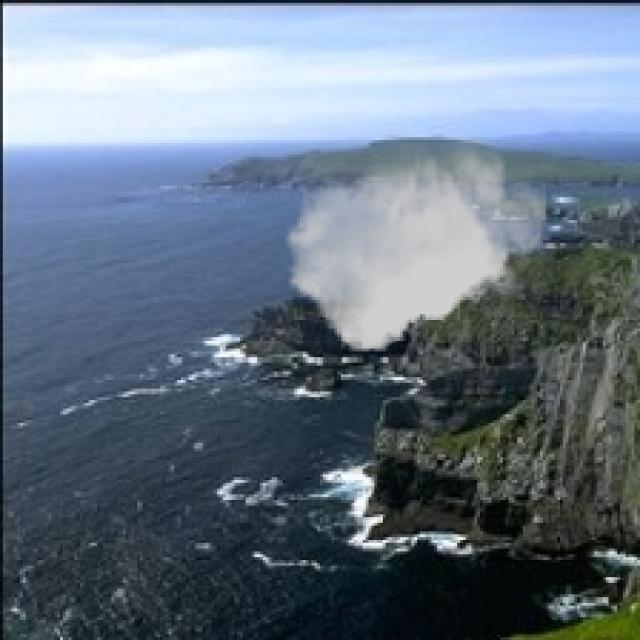smoke: (286, 140, 546, 351)
